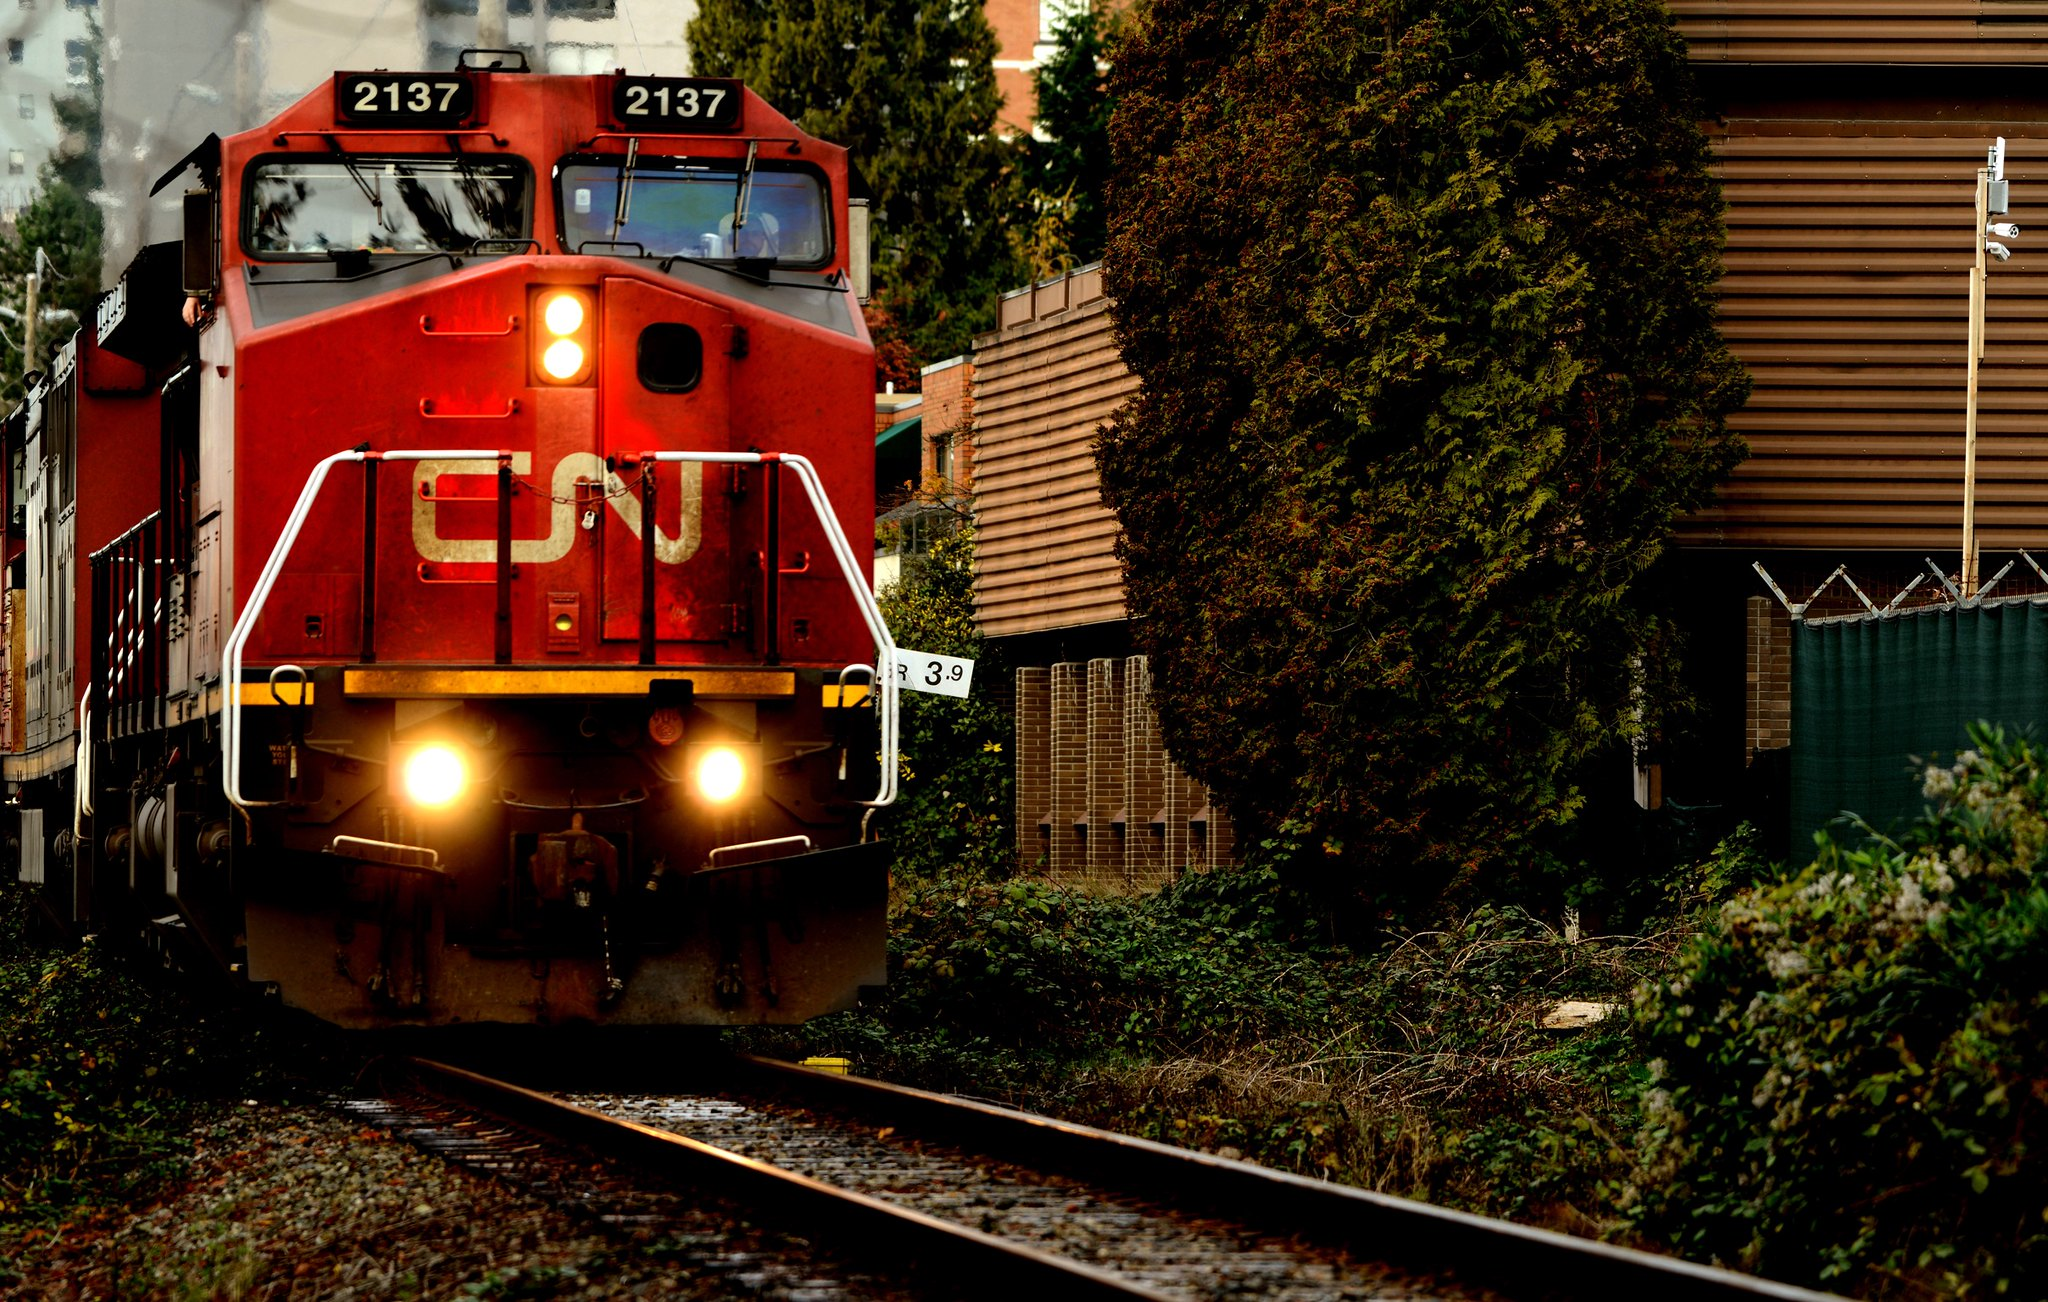train: (13, 79, 893, 1077)
